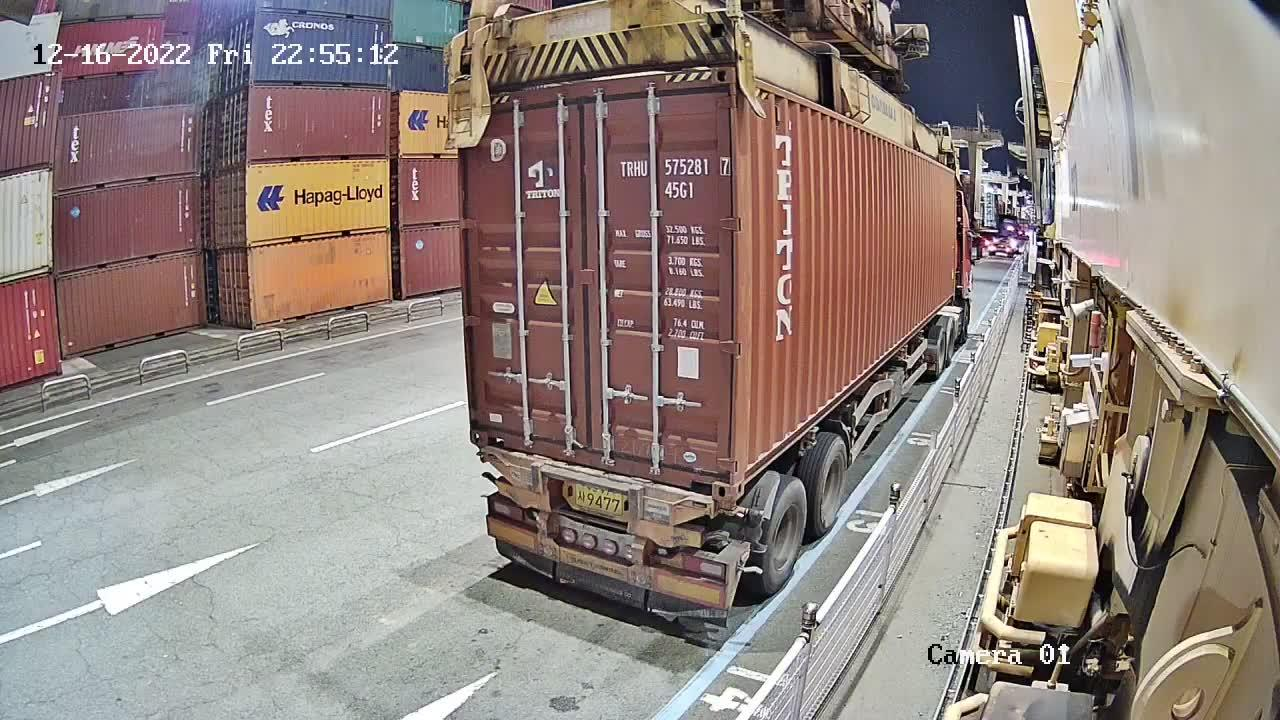Chassis: (479, 447, 722, 547)
Cone: (717, 504, 742, 516)
Hole_L: (733, 434, 776, 500), (467, 397, 512, 449)
Hole_R: (683, 453, 734, 499)
Tire: (766, 482, 809, 586), (819, 442, 849, 530)
